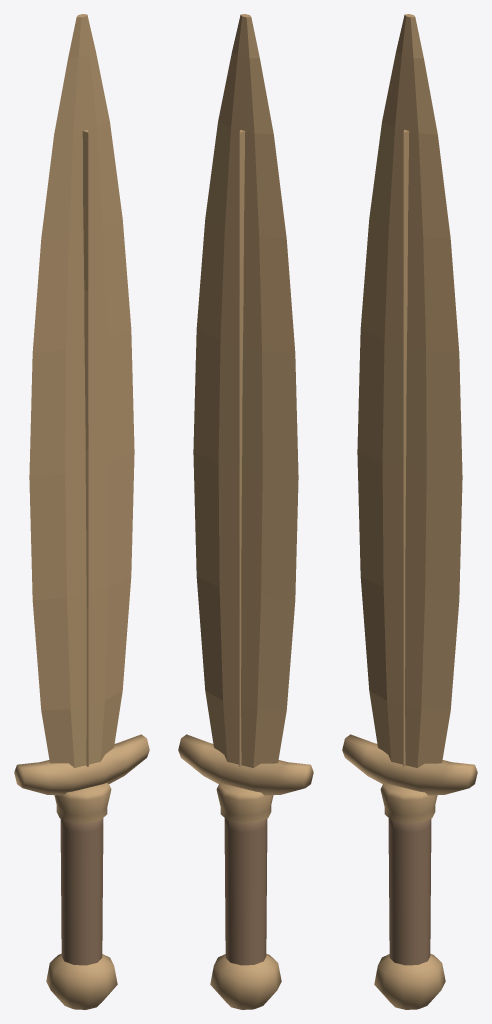
The model's file is wpn_bronze_sword.glb.
The picture shows the model from 3 angles, left to right: view 1: azimuth 30°, elevation 25°; view 2: azimuth 150°, elevation 25°; view 3: azimuth 330°, elevation 25°; orthographic projection.
Visible parts, largest first — view 1: wpn_bronze_sword; view 2: wpn_bronze_sword; view 3: wpn_bronze_sword.
Part boxes in pixels (bbox=[...]): wpn_bronze_sword: bbox=[14, 14, 149, 1009]; wpn_bronze_sword: bbox=[178, 14, 313, 1009]; wpn_bronze_sword: bbox=[342, 14, 477, 1009].
Size of the model in its own units: 0.116 by 0.88 by 0.0552.
